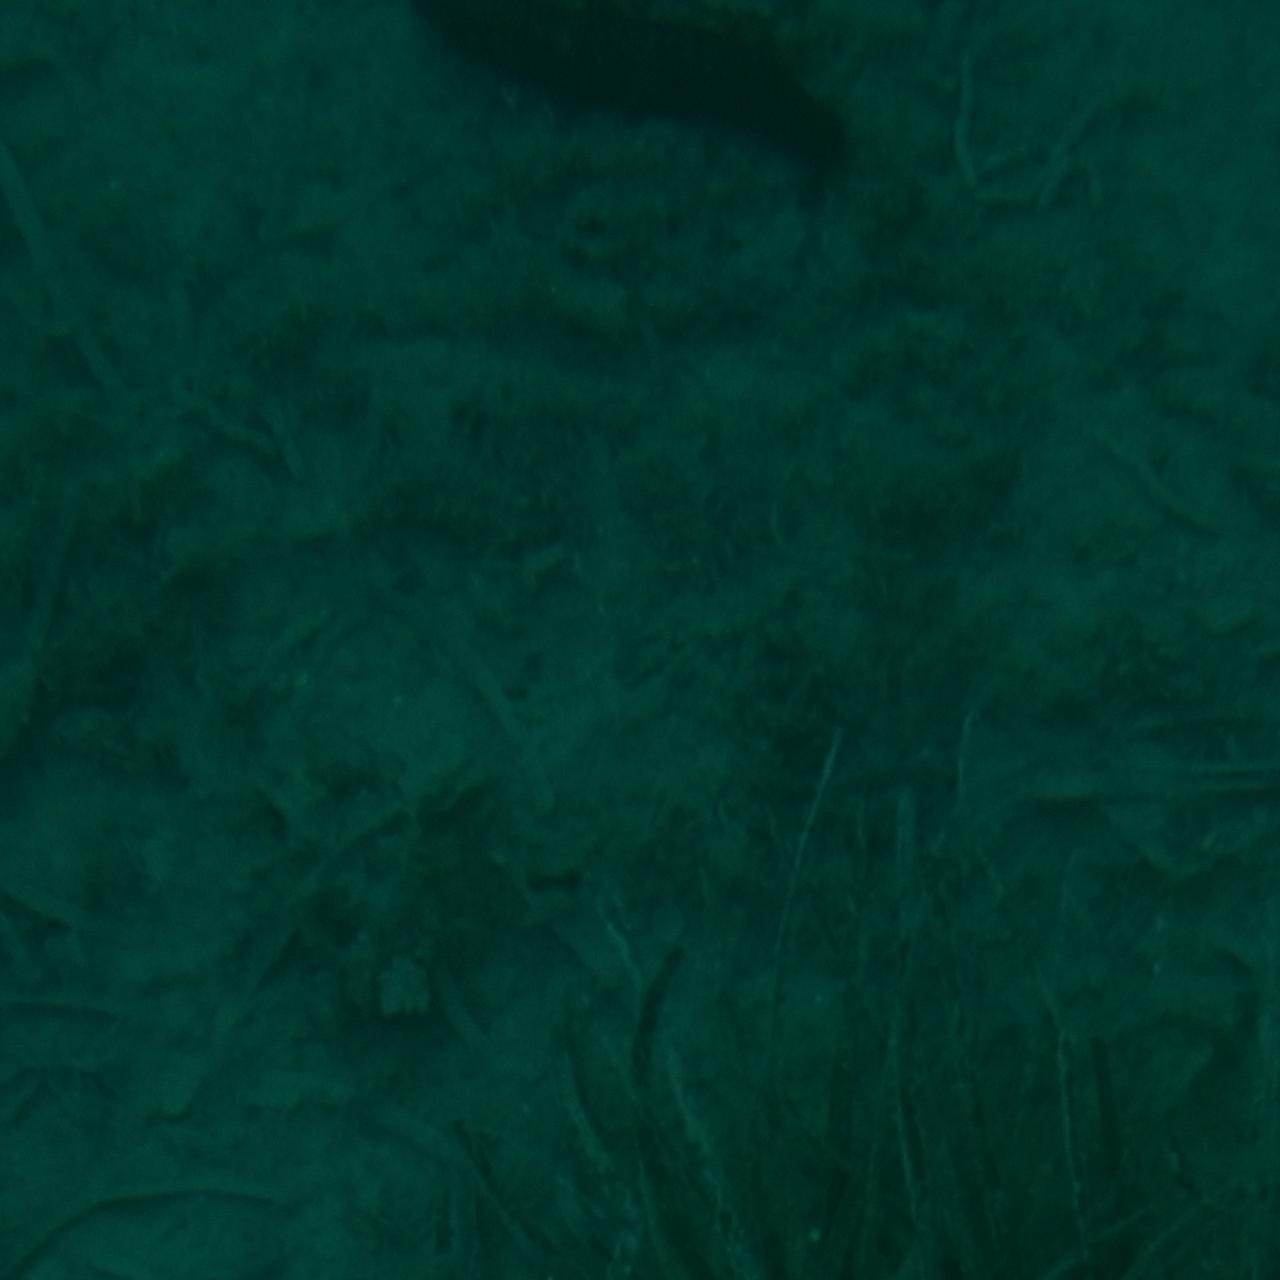Holothuria tubulosa: (409, 0, 871, 220)
